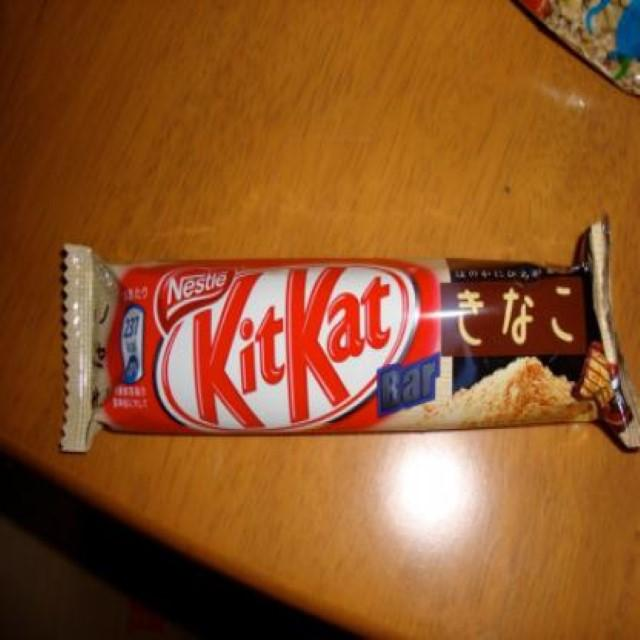kitkat_chocolate: (90, 268, 615, 480)
